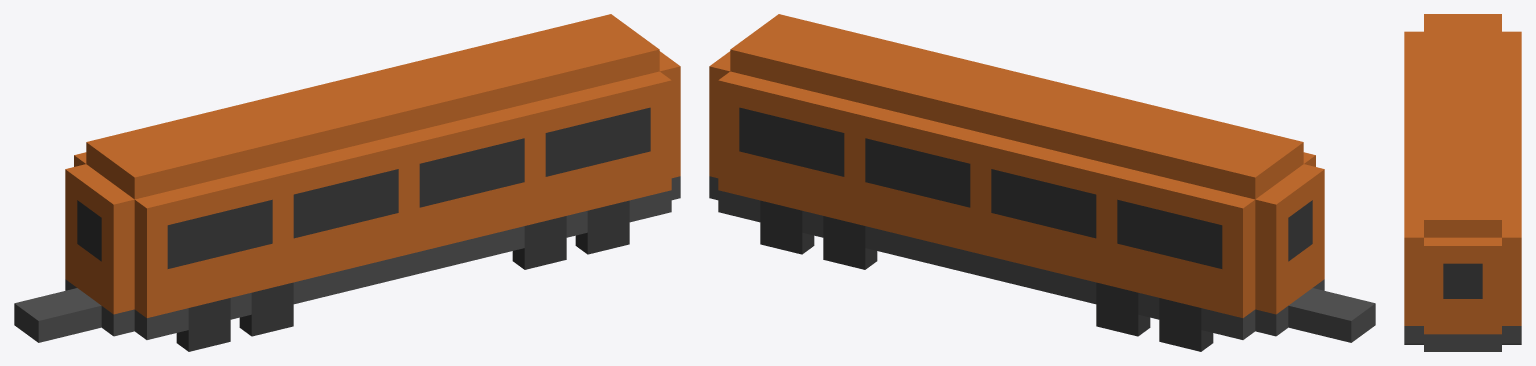
File: train-trailer-v4-orange.gltf
3 views of the same model, side by side, from view 1: azimuth 30°, elevation 25°; view 2: azimuth 150°, elevation 25°; view 3: azimuth 270°, elevation 25° (orthographic). The views are drawn at different scales.
Visible parts, largest first — view 1: model, wheels; view 2: model, wheels; view 3: model.
Boxes of the visible parts, bbox=[...] form: model: bbox=[14, 14, 680, 342]; wheels: bbox=[176, 200, 629, 351]; model: bbox=[709, 14, 1375, 342]; wheels: bbox=[760, 200, 1213, 351]; model: bbox=[1404, 14, 1521, 351].
Size of the model in its own units: 3 by 0.8 by 0.6.
2 materials, 2 textured.
